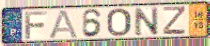6: (81, 8, 102, 39)
A: (48, 9, 80, 39)
F: (24, 10, 50, 40)
N: (133, 6, 160, 38)
O: (106, 7, 133, 38)
Z: (162, 5, 187, 36)
